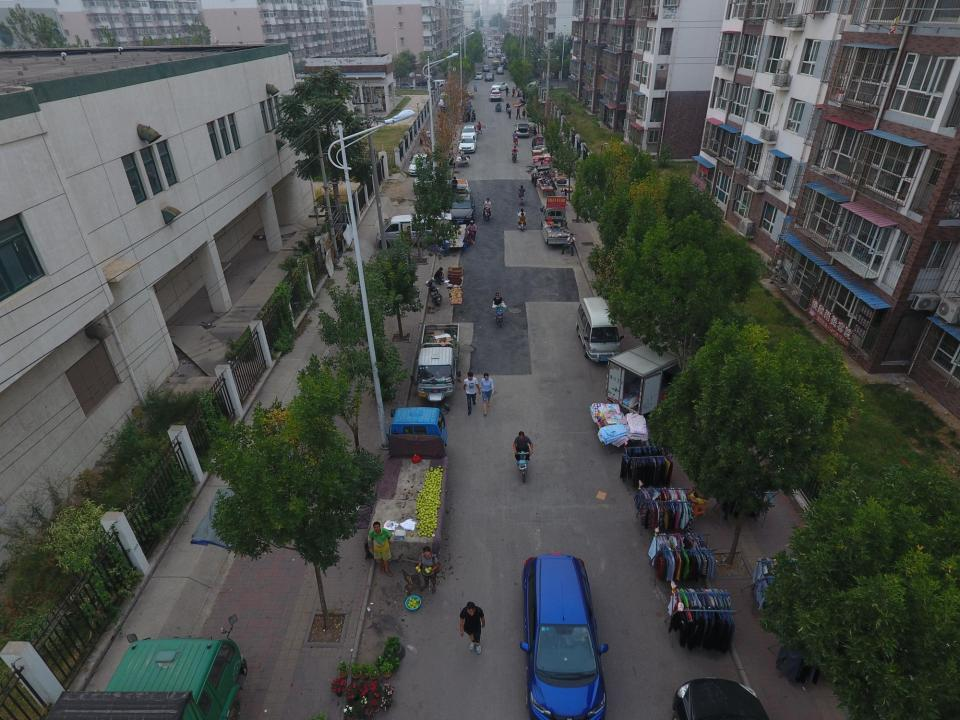car: (519, 552, 609, 720), (670, 676, 771, 720), (449, 194, 475, 224), (408, 154, 432, 176), (514, 122, 536, 138), (458, 136, 477, 154), (460, 126, 478, 142), (490, 82, 508, 91), (397, 82, 416, 89), (416, 78, 435, 85), (490, 90, 501, 102), (484, 73, 494, 82), (474, 73, 483, 80), (496, 68, 504, 74), (483, 65, 489, 73), (500, 57, 505, 64), (488, 52, 493, 58), (481, 44, 486, 49), (496, 54, 501, 58), (488, 48, 492, 52), (496, 49, 501, 52), (488, 38, 492, 41), (495, 42, 499, 44), (491, 47, 494, 48)
truck: (44, 613, 248, 720), (364, 407, 449, 565), (606, 322, 730, 418), (410, 324, 462, 402), (539, 196, 571, 245), (412, 171, 470, 197), (492, 61, 499, 69)
van: (575, 297, 624, 363), (376, 214, 452, 250), (435, 83, 457, 92), (428, 80, 450, 88), (439, 92, 449, 106)
